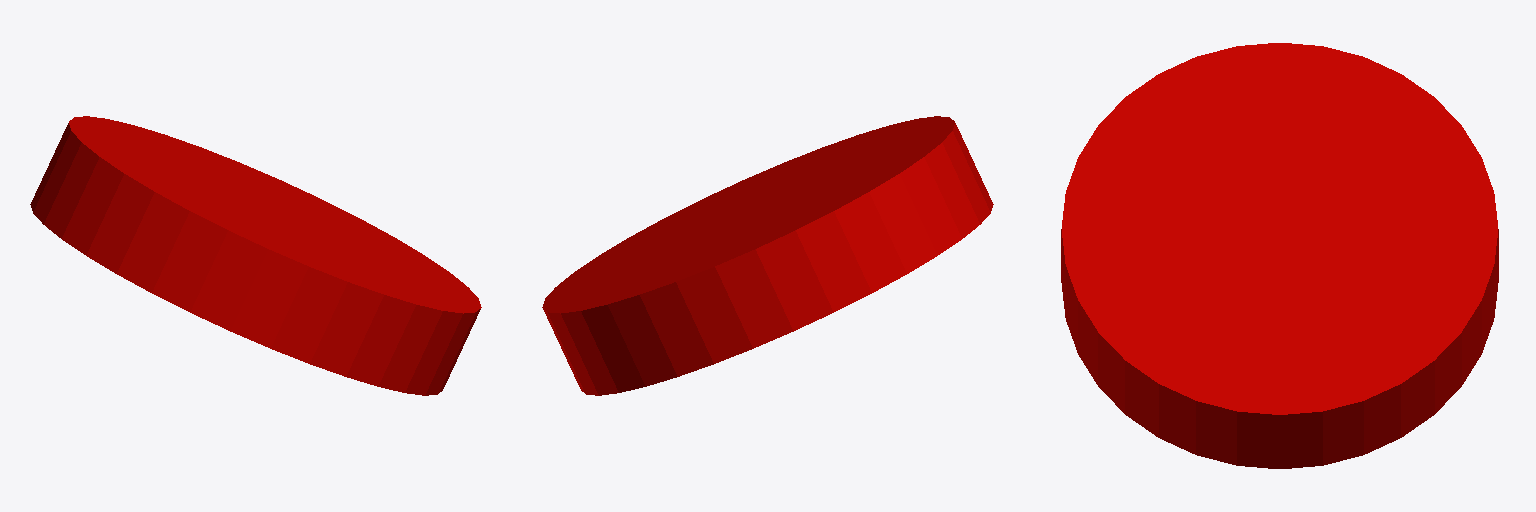
Rendered from button_top.obj.
The picture shows the model from 3 angles: view 1: azimuth 30°, elevation 25°; view 2: azimuth 150°, elevation 25°; view 3: azimuth 270°, elevation 25°; orthographic projection.
Parts seen in each view (by area): view 1: Cylinder; view 2: Cylinder; view 3: Cylinder.
Part boxes in pixels (bbox=[...]): Cylinder: bbox=[30, 116, 481, 395]; Cylinder: bbox=[542, 116, 993, 395]; Cylinder: bbox=[1061, 43, 1498, 468].
Bounding box in the file's own units: 0.9591 × 0.6466 × 0.9331.